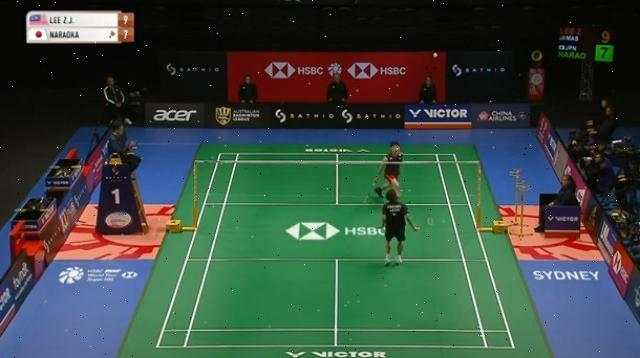Shuttlecock: (430, 50, 442, 62)
